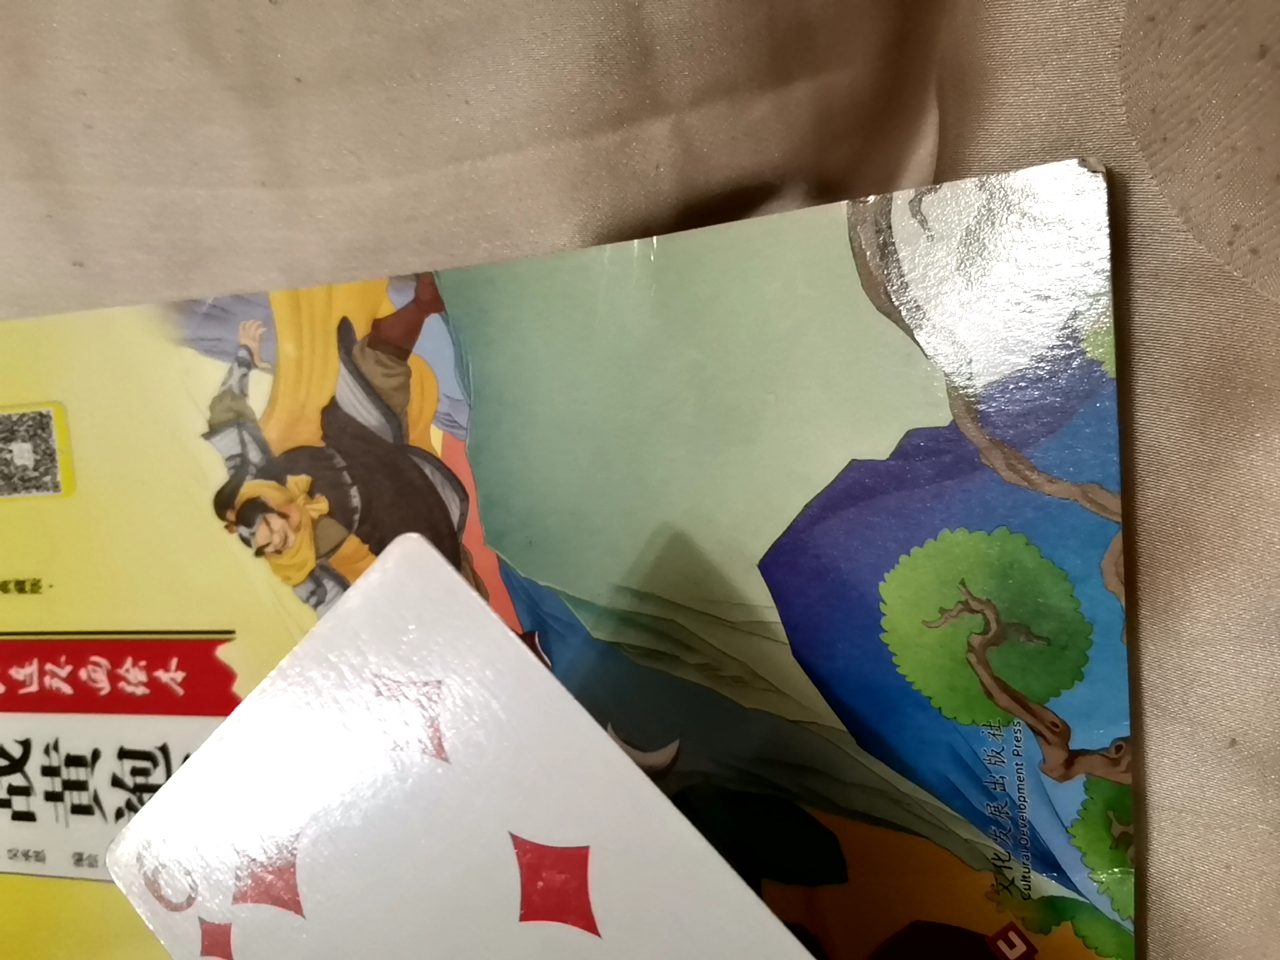fk 6: (152, 520, 943, 957)
